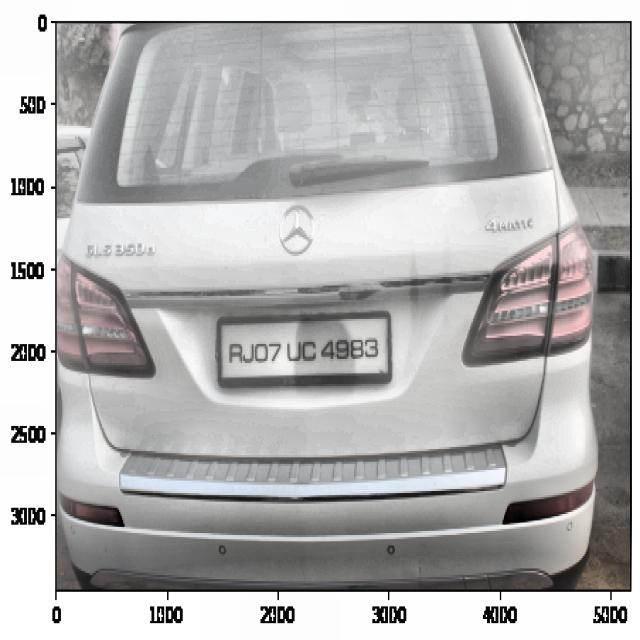license_plate: (223, 324, 384, 375)
